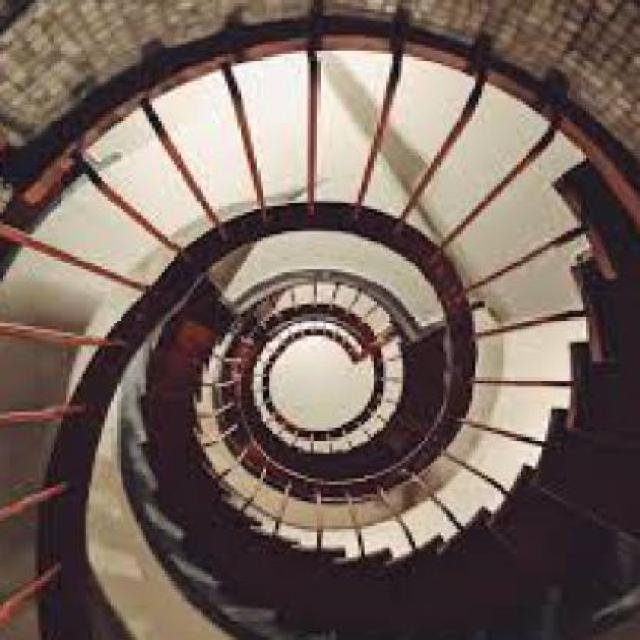stair: (6, 123, 639, 637)
